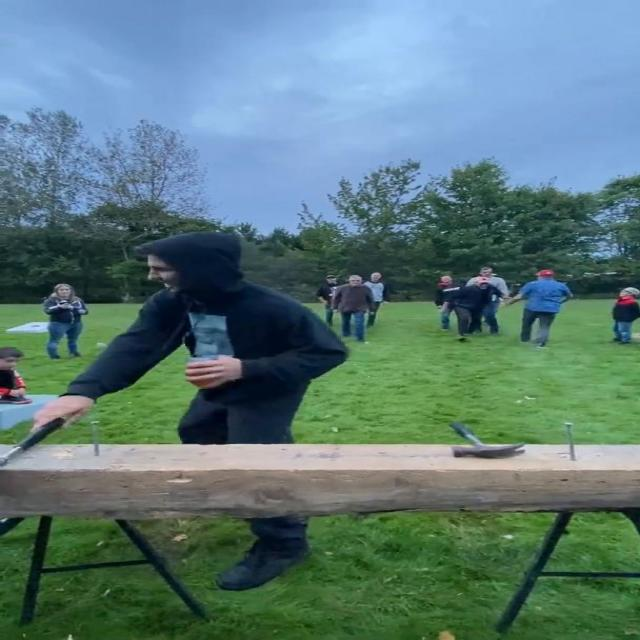hammer: (447, 417, 529, 462)
